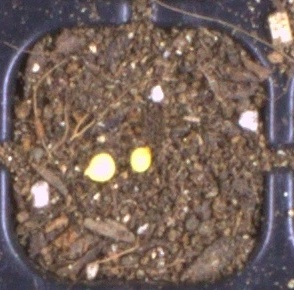chilli seed: (82, 152, 116, 182), (130, 147, 151, 172)
